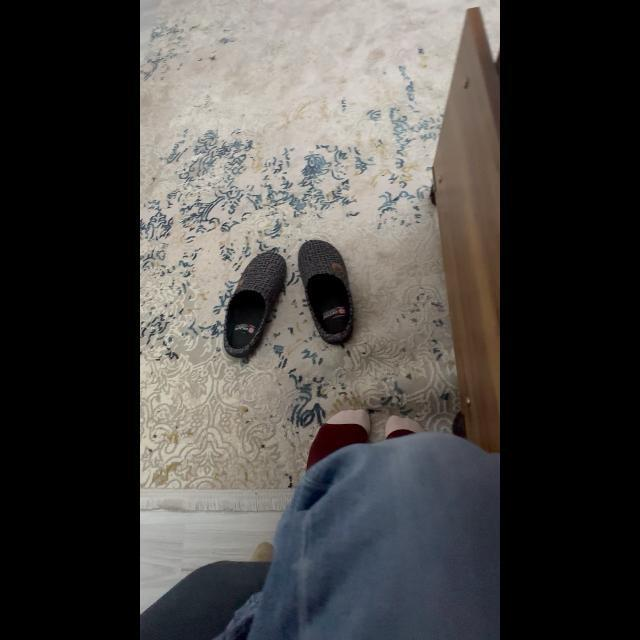slipper: (219, 243, 295, 363), (299, 232, 359, 358)
